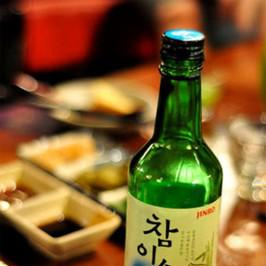soju: (122, 28, 223, 265)
